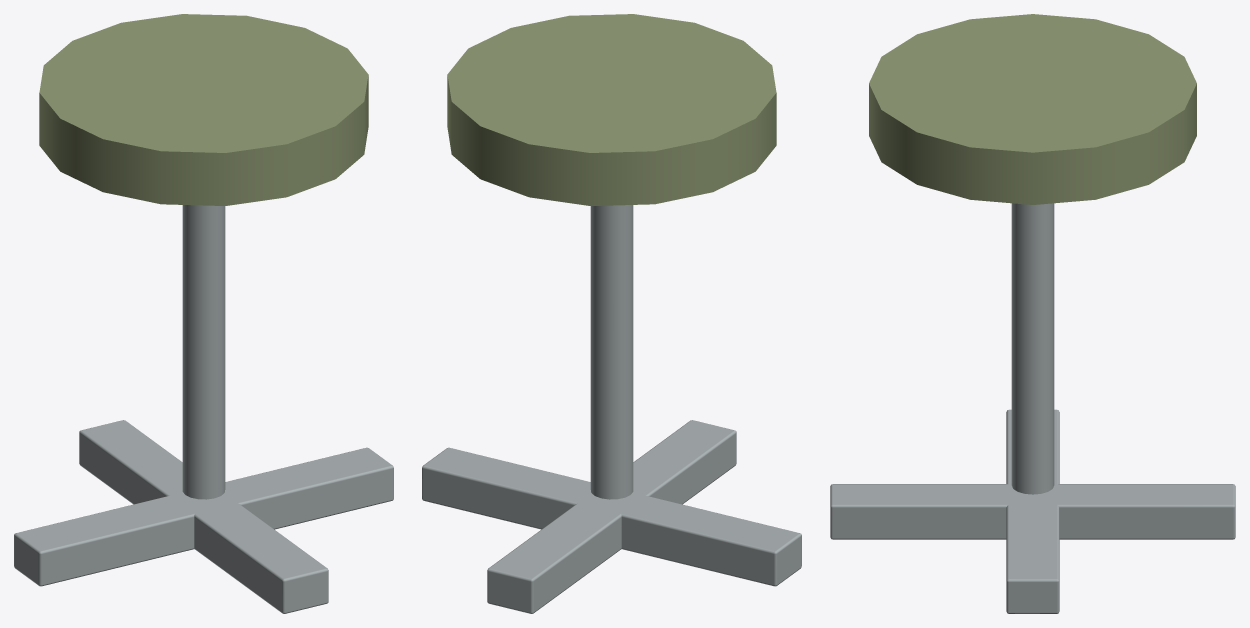
File: field-medicine-and-recovery-examination-stool-2bdc1acf__3051.glb
The picture shows the model from 3 angles, left to right: view 1: azimuth 30°, elevation 25°; view 2: azimuth 150°, elevation 25°; view 3: azimuth 270°, elevation 25°; orthographic projection.
Parts seen in each view (by area): view 1: examination-stool; view 2: examination-stool; view 3: examination-stool.
Boxes of the visible parts, bbox=[...] form: examination-stool: bbox=[14, 14, 393, 613]; examination-stool: bbox=[422, 14, 801, 613]; examination-stool: bbox=[830, 14, 1235, 613].
Bounding box in the file's own units: 0.42 × 0.51 × 0.42.
